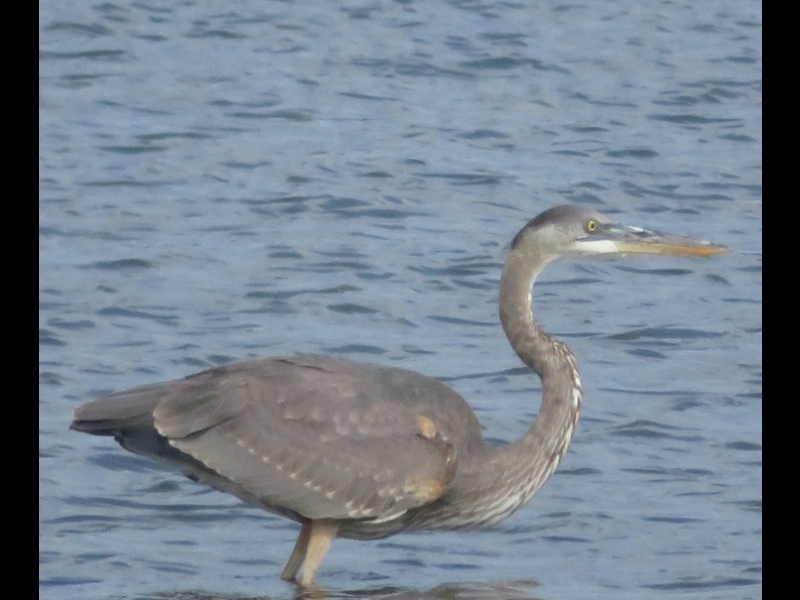heron: (74, 205, 732, 597)
